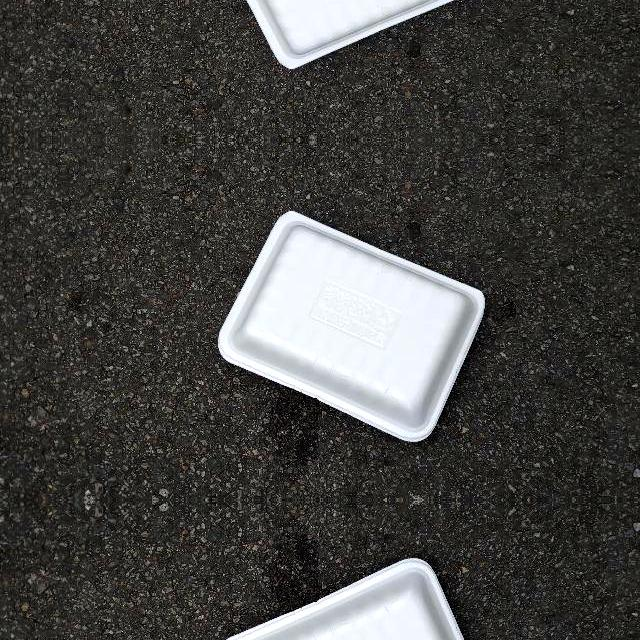Styrofoam: (217, 211, 486, 443), (218, 211, 486, 442), (216, 557, 485, 640), (226, 558, 465, 640), (216, 0, 485, 69)
